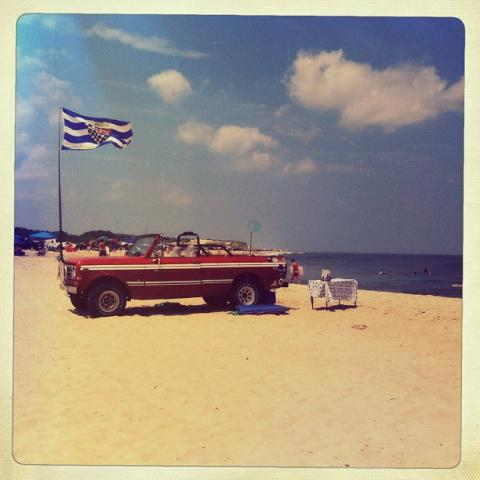car: (56, 232, 285, 314), (46, 238, 70, 252)
truck: (58, 232, 286, 318)
